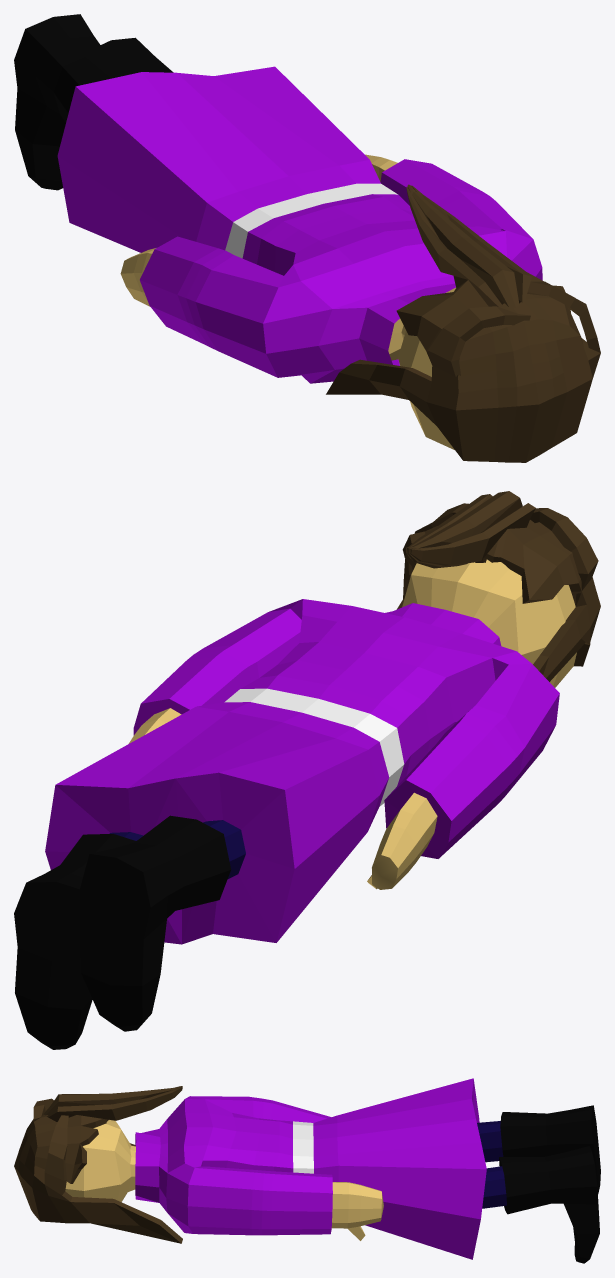
Rendered from personNomin.glb.
3 views of the same model, one above another, from view 1: azimuth 30°, elevation 25°; view 2: azimuth 150°, elevation 25°; view 3: azimuth 270°, elevation 25° (orthographic). The views are drawn at different scales.
Parts seen in each view (by area): view 1: shadePurple, shadeBrown.002, shadeGray.001, shadeYellow, shadeWhite.001; view 2: shadePurple, shadeGray.001, shadeBrown.002, shadeYellow, shadeWhite.001, shadeBlue.001; view 3: shadePurple, shadeBrown.002, shadeGray.001, shadeYellow, shadeBlue.001, shadeWhite.001.
Boxes of the visible parts, x1,y1,x2,y2 form: shadePurple: [57, 66, 542, 383]; shadeBrown.002: [326, 184, 600, 462]; shadeGray.001: [14, 14, 173, 190]; shadeYellow: [120, 154, 455, 449]; shadeWhite.001: [225, 183, 397, 258]; shadePurple: [45, 599, 559, 944]; shadeGray.001: [14, 815, 231, 1049]; shadeBrown.002: [397, 491, 600, 681]; shadeYellow: [128, 559, 576, 889]; shadeWhite.001: [224, 688, 404, 806]; shadeBlue.001: [109, 820, 245, 878]; shadePurple: [135, 1078, 486, 1259]; shadeBrown.002: [14, 1086, 182, 1243]; shadeGray.001: [499, 1105, 600, 1263]; shadeYellow: [65, 1120, 383, 1240]; shadeBlue.001: [477, 1121, 506, 1208]; shadeWhite.001: [293, 1121, 313, 1173].
Size of the model in its own units: 0.8036 by 0.6318 by 2.
